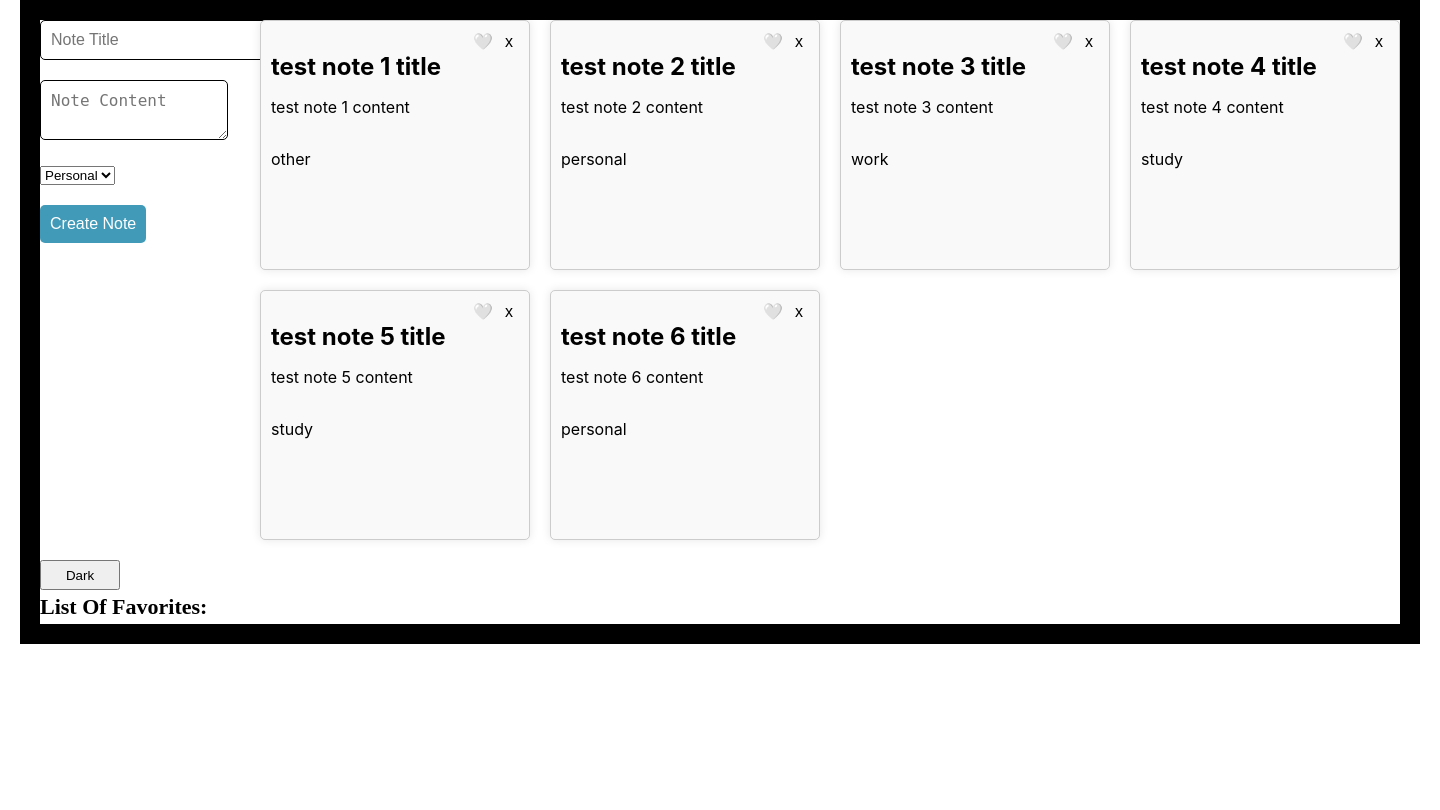
Test: Create StickyNote › read notes
In the field with placeholder "Note Title": (154, 40) [40,20,269,60], type "New NOTE"
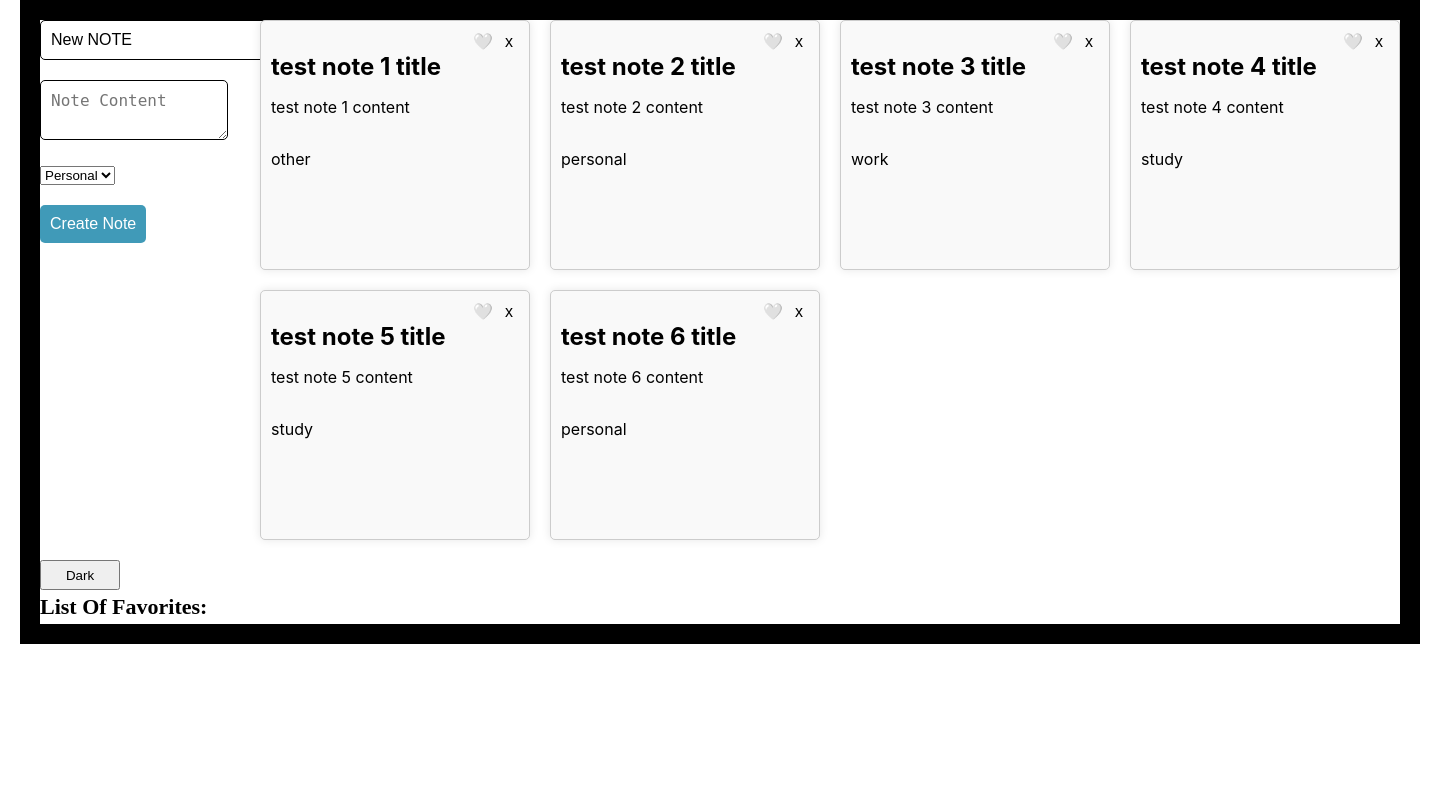
In the text box with placeholder "Note Content": (134, 110) [40,80,228,140], type "Note CONTENT"
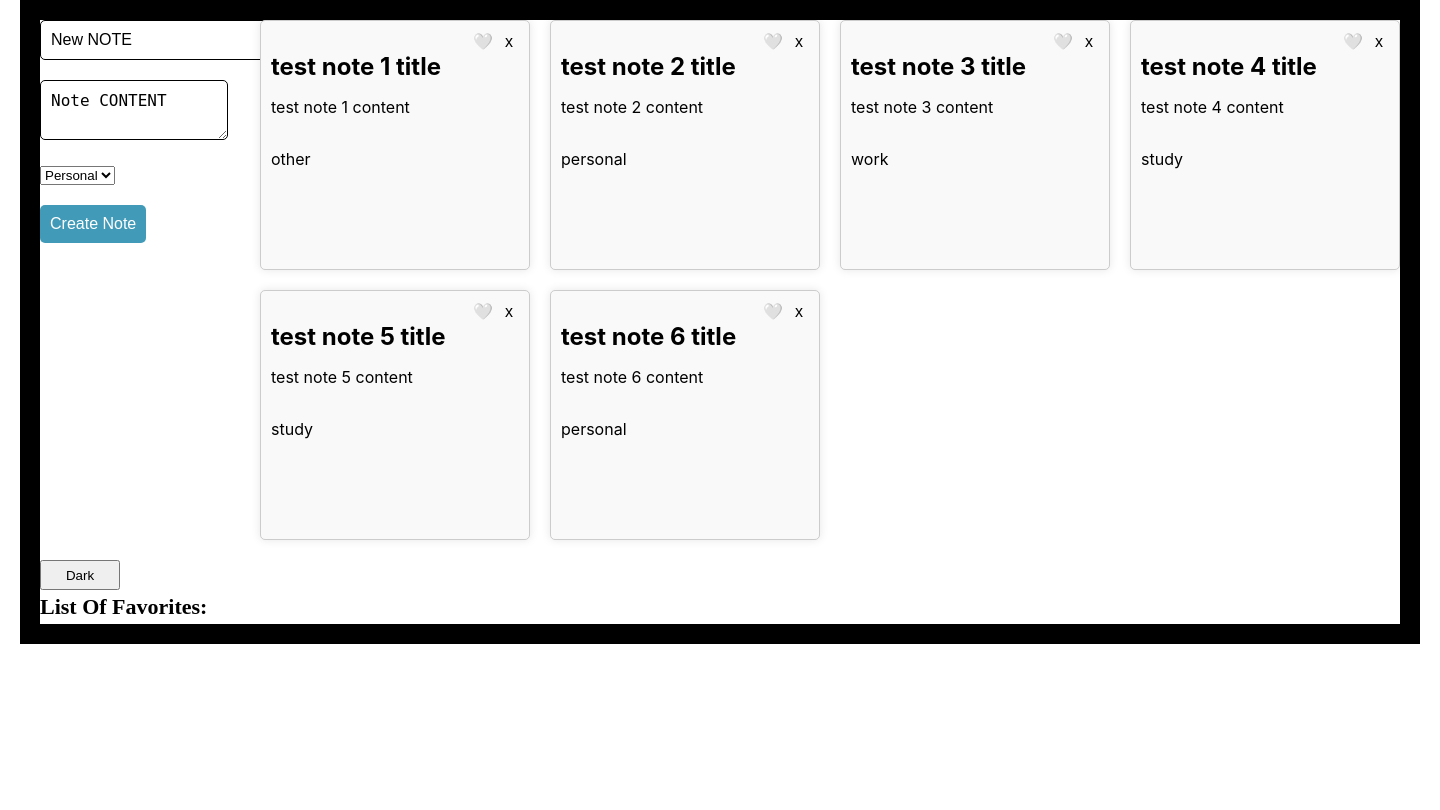
Click the button "Create Note": (93, 224) [40,205,146,243]
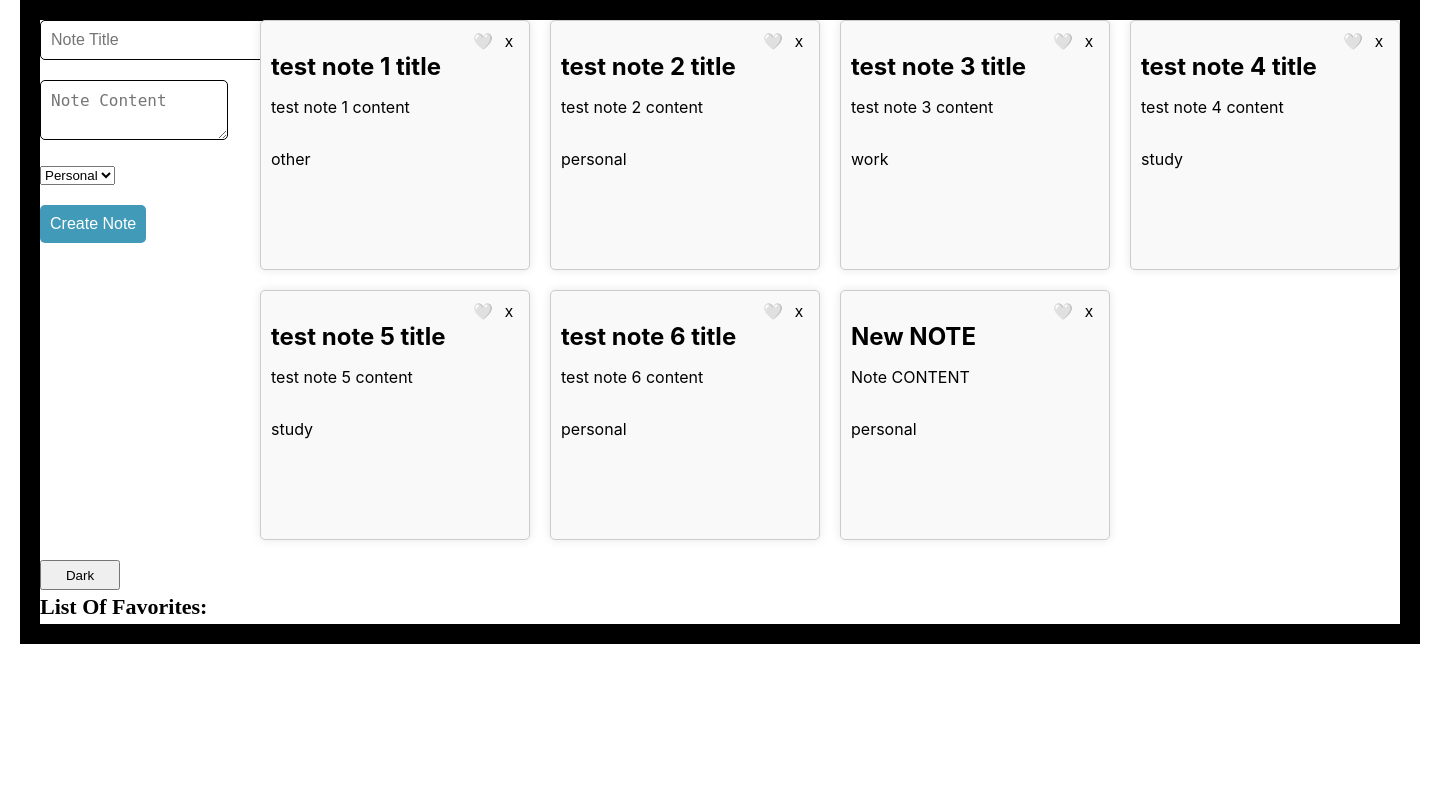
Result: the heading "New NOTE" is shown at [851,322,976,351]
Result: the text box "Note CONTENT" is shown at [851,367,970,387]
In the field with placeholder "Note Title": (154, 40) [40,20,269,60], type "New NOTE 2"
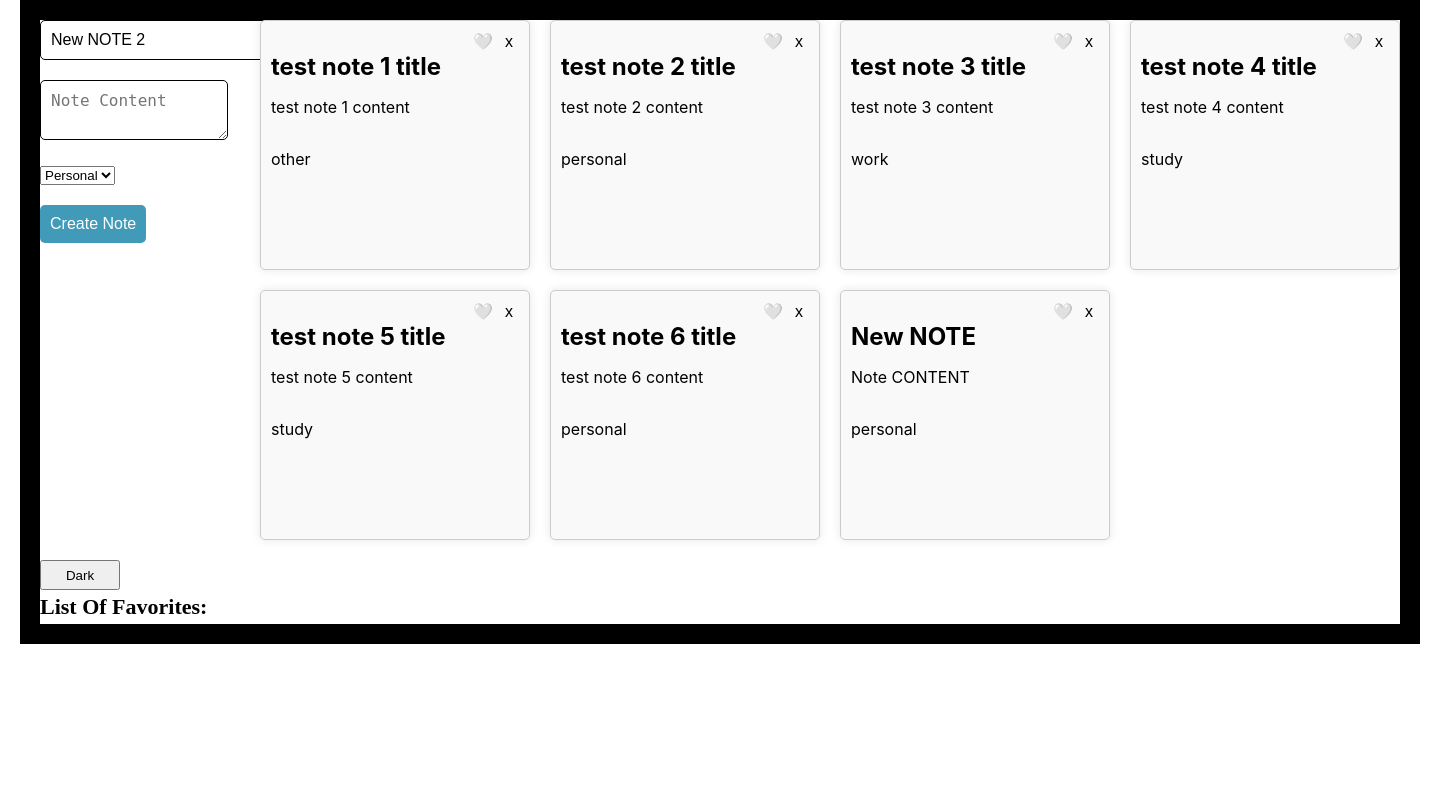
In the text box with placeholder "Note Content": (134, 110) [40,80,228,140], type "Note CONTENT 2"
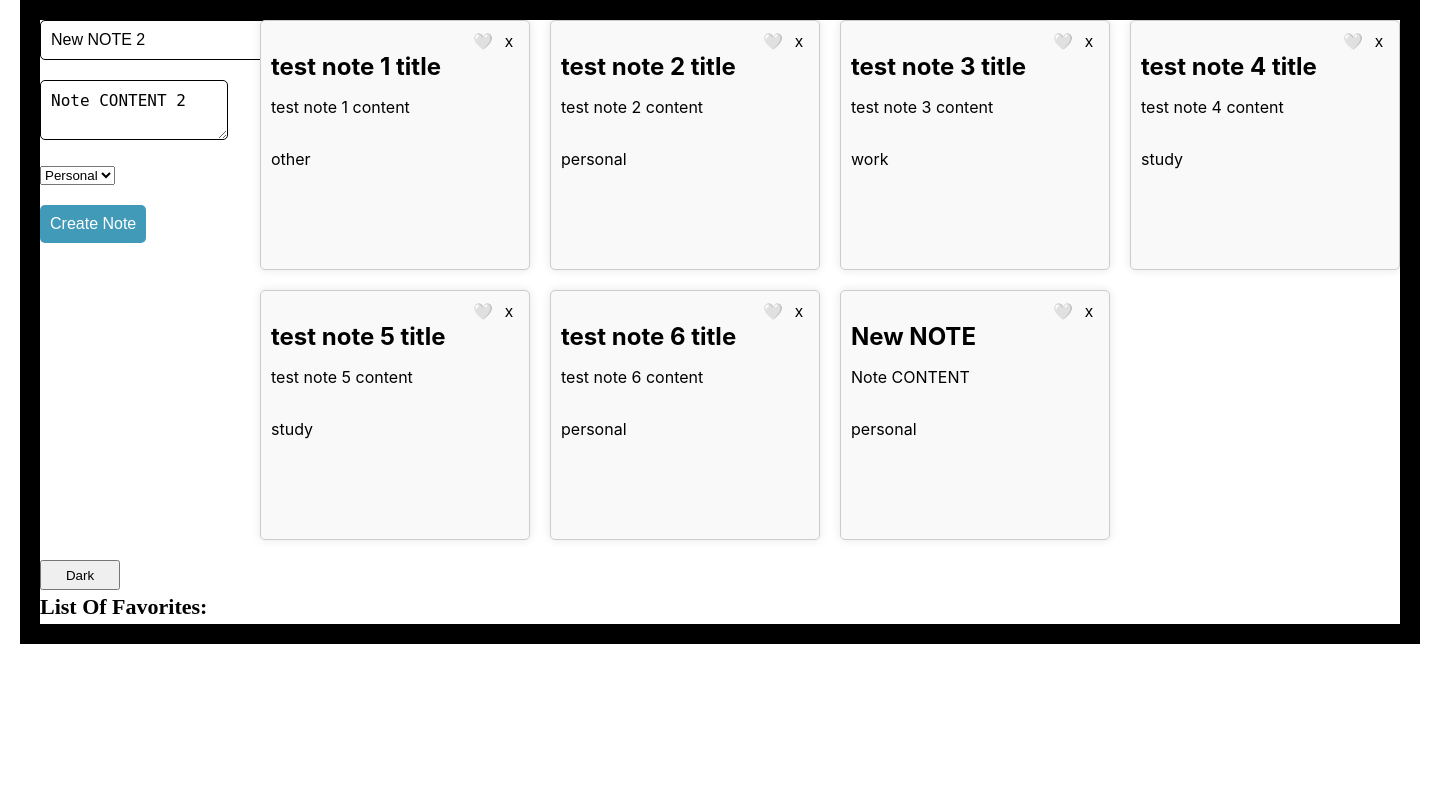
Click the button "Create Note": (93, 224) [40,205,146,243]
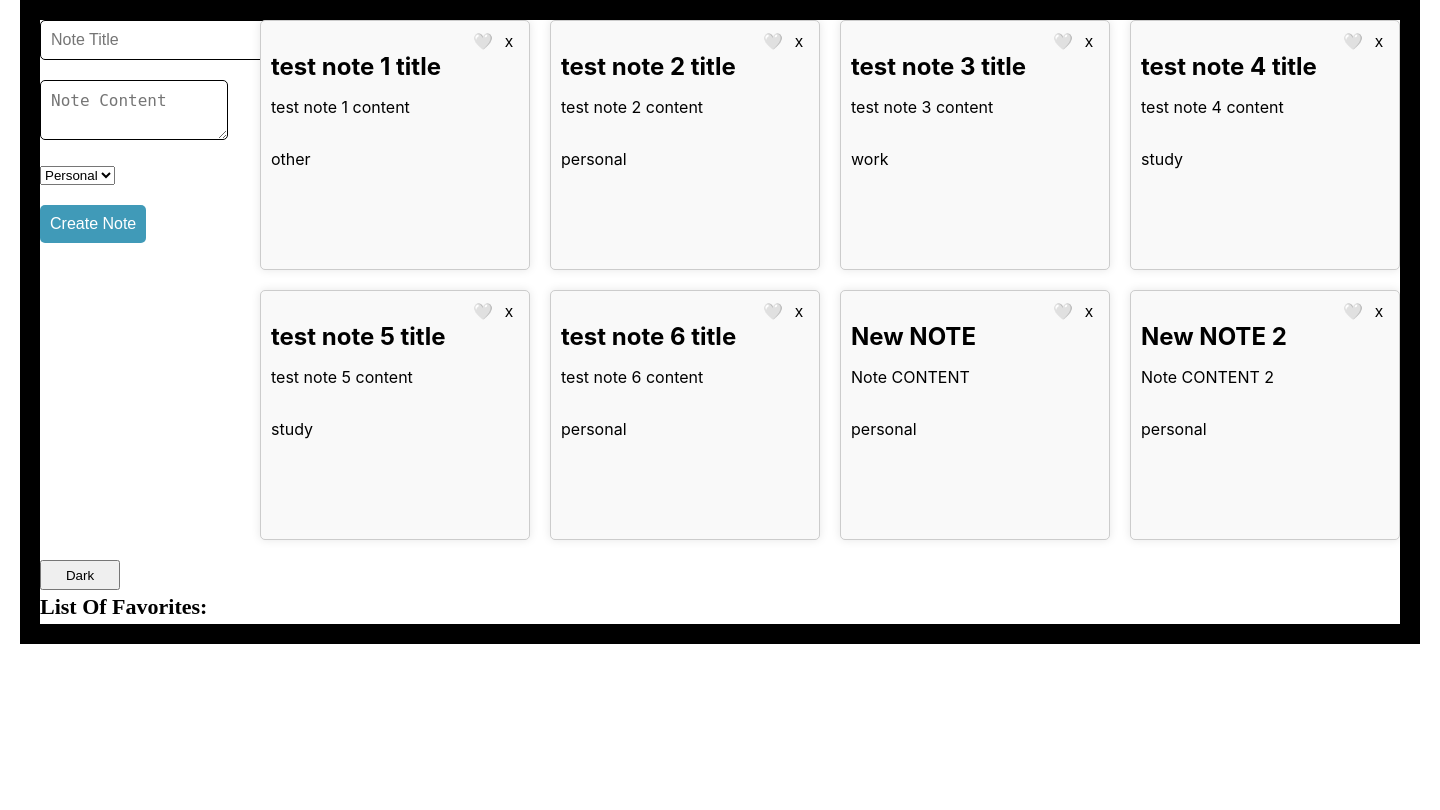
Result: the heading "New NOTE 2" is shown at [1141,322,1287,351]
Result: the text box "Note CONTENT 2" is shown at [1141,367,1274,387]
